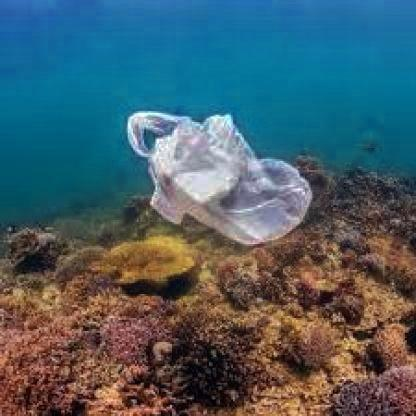pbag: (124, 109, 312, 248)
